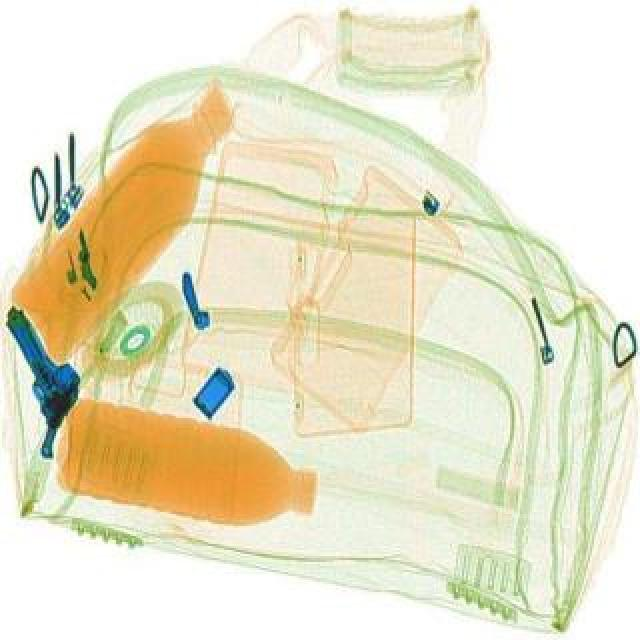gun: (4, 294, 88, 458)
